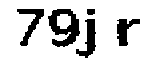7: (13, 6, 44, 49)
9: (46, 8, 80, 49)
j: (78, 7, 101, 60)
r: (110, 15, 145, 49)
